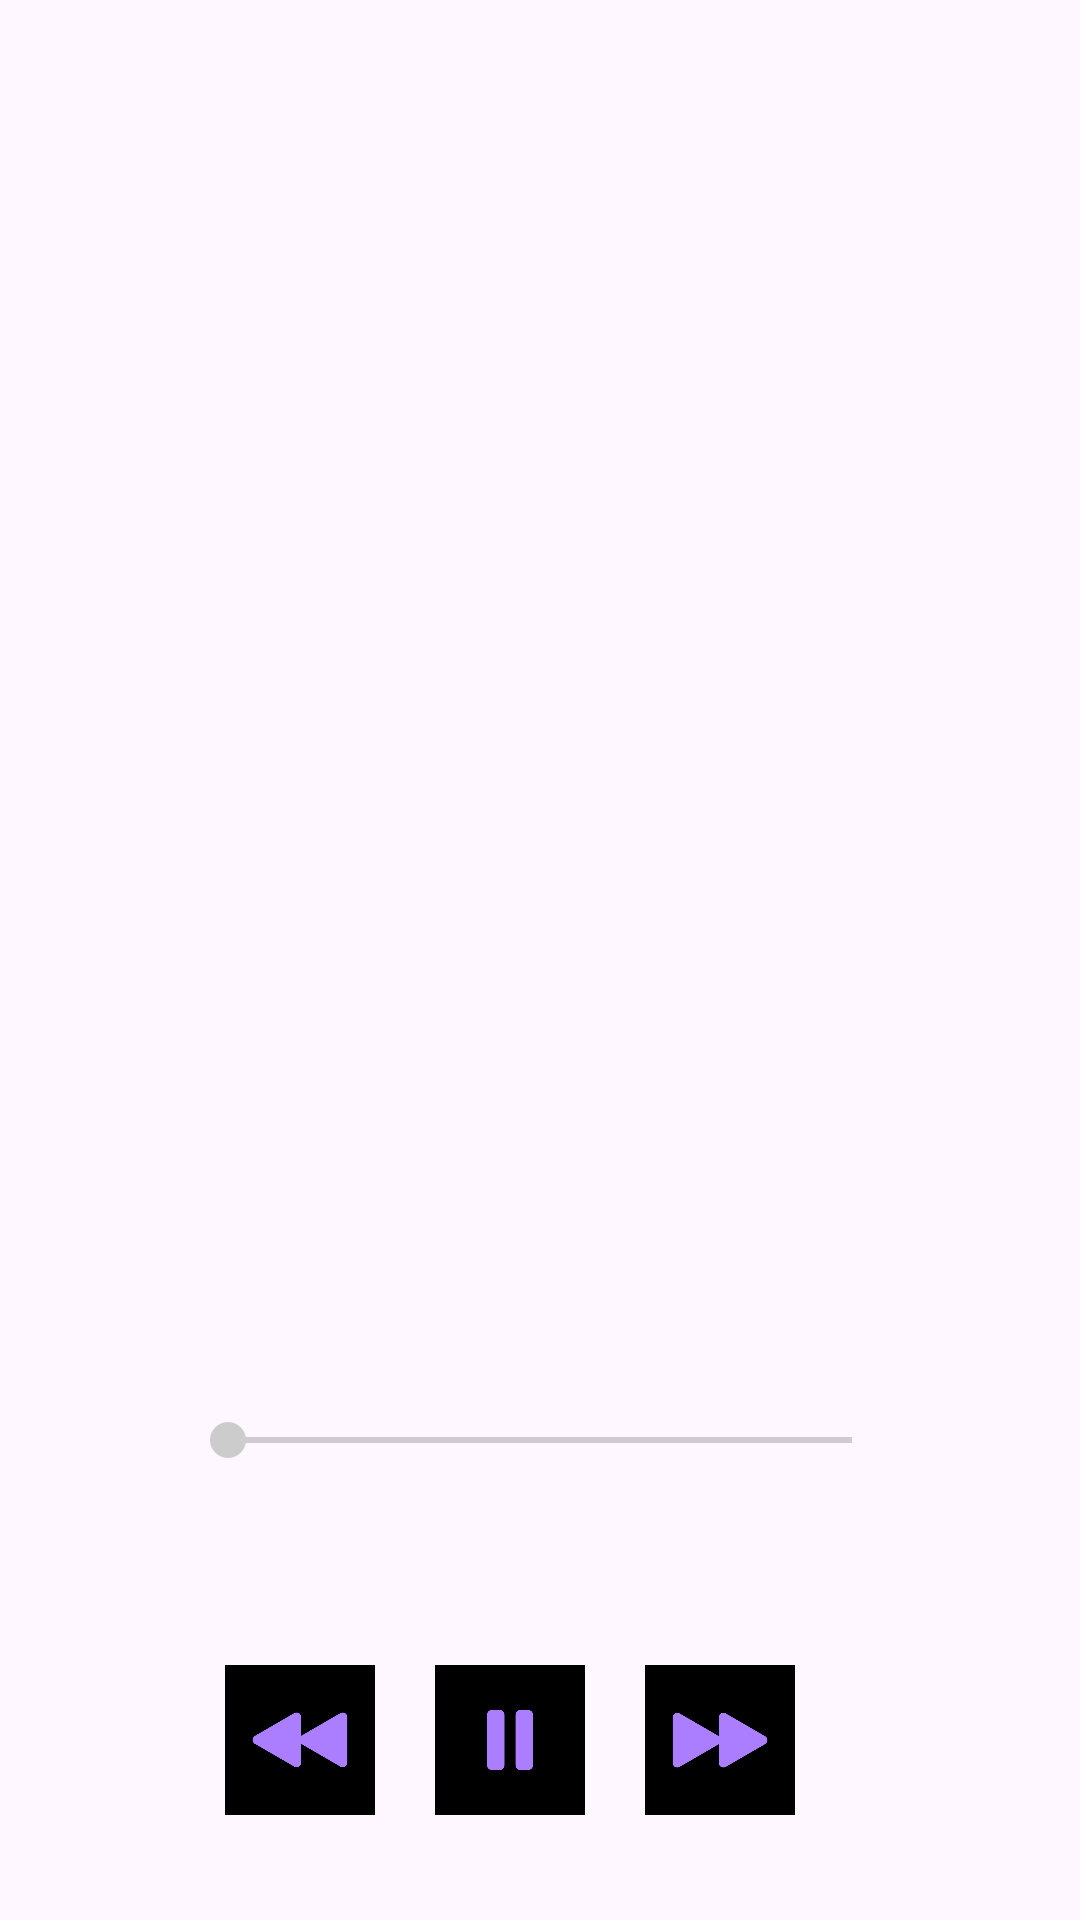

Point at icon controls on the screen. Image size 1080 × 1920, points as point (x, y).
pausebuttonpurple: point (510, 1740)
playnext: point (720, 1740)
playprev: point (300, 1740)
